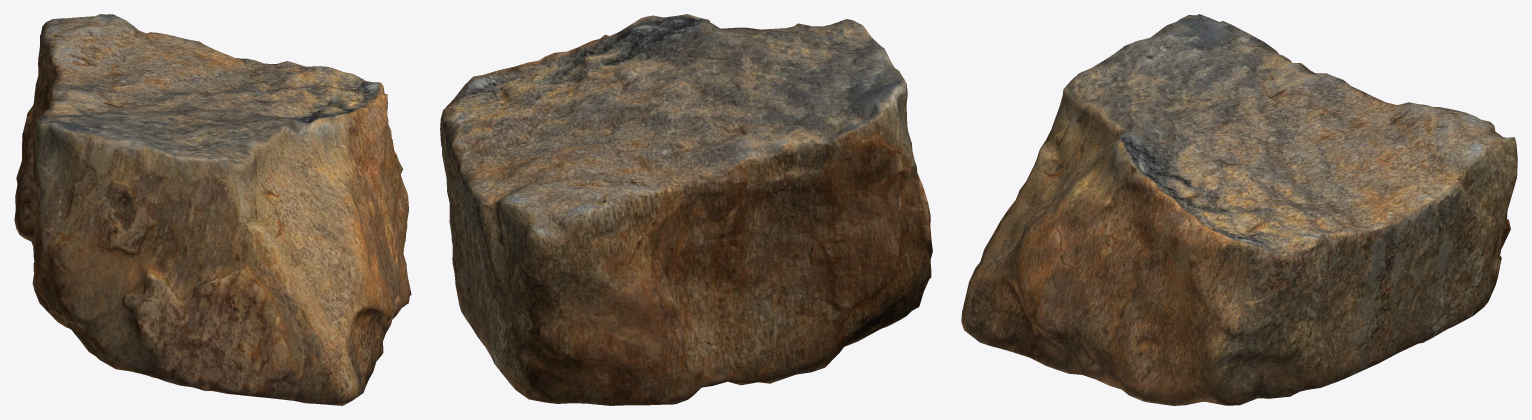
The model's file is namaqualand_boulder_03.glb.
The picture shows the model from 3 angles, left to right: view 1: azimuth 30°, elevation 25°; view 2: azimuth 150°, elevation 25°; view 3: azimuth 270°, elevation 25°; orthographic projection. The views are drawn at different scales.
Visible parts, largest first — view 1: boulder_03_LOD0; view 2: boulder_03_LOD0; view 3: boulder_03_LOD0.
Part boxes in pixels (bbox=[...]): boulder_03_LOD0: bbox=[14, 14, 411, 405]; boulder_03_LOD0: bbox=[440, 14, 932, 405]; boulder_03_LOD0: bbox=[961, 14, 1517, 405].
Bounding box in the file's own units: 2.4 × 1.48 × 3.06.
Materials: 1 (1 with a texture image).
